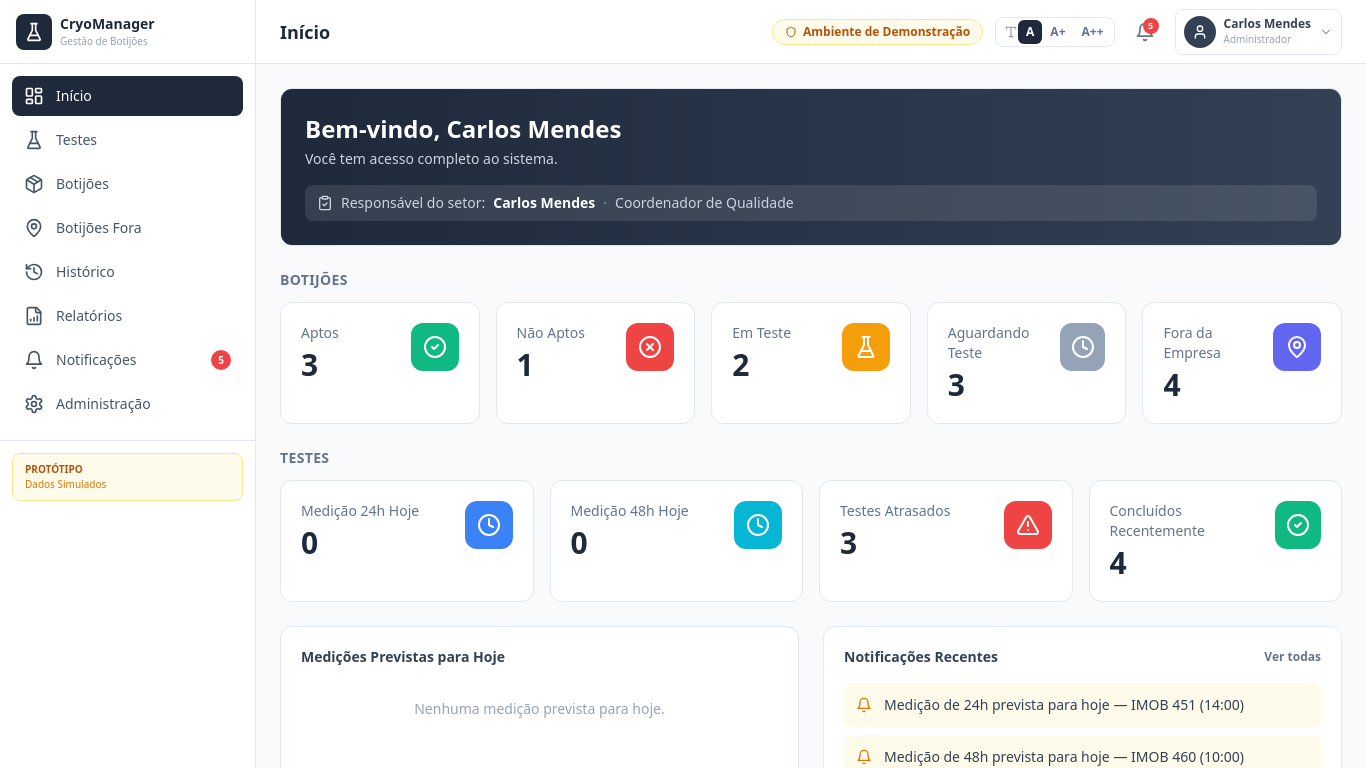
Test: Navegação entre telas › navega para a tela de Botijões
Click the button "Botijões": (128, 184) [12,164,243,204]
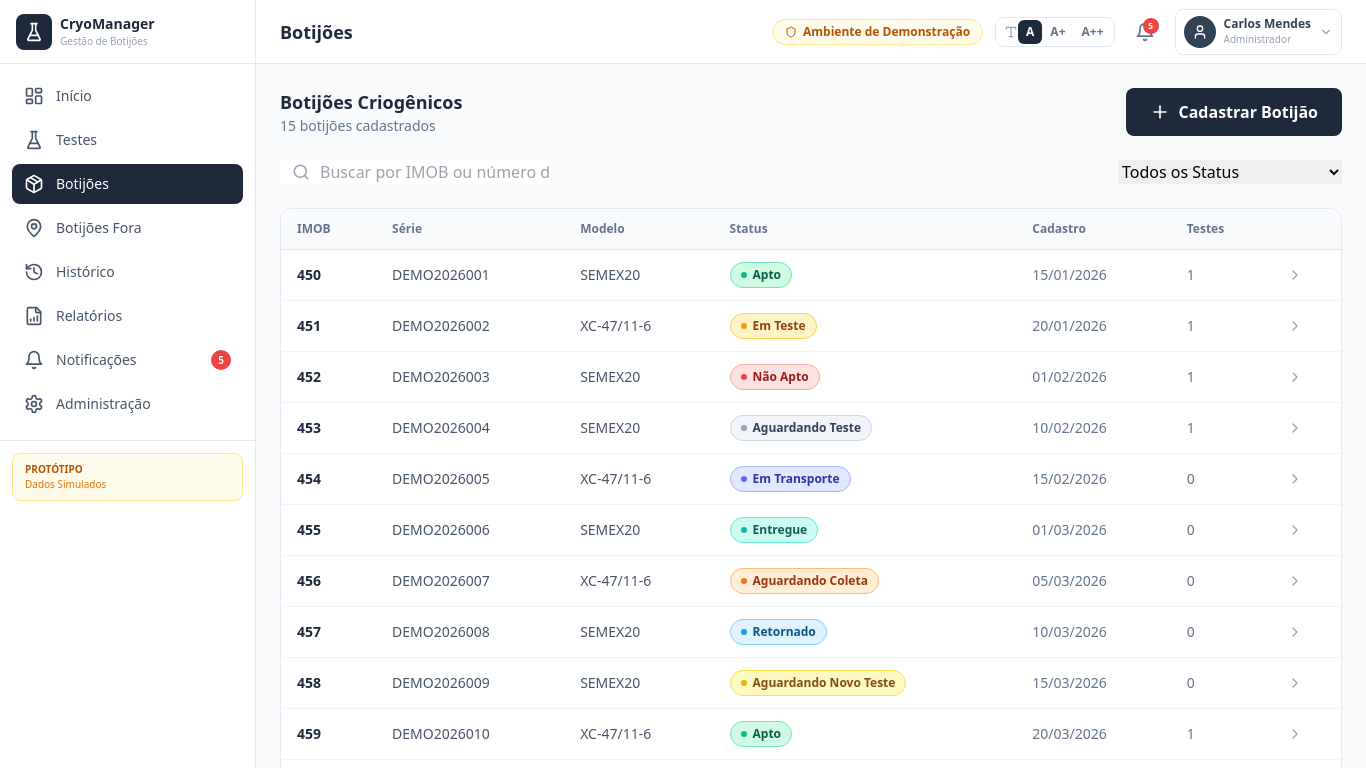
Result: the heading "Botijões Criogênicos" is shown at [280,88,462,116]
